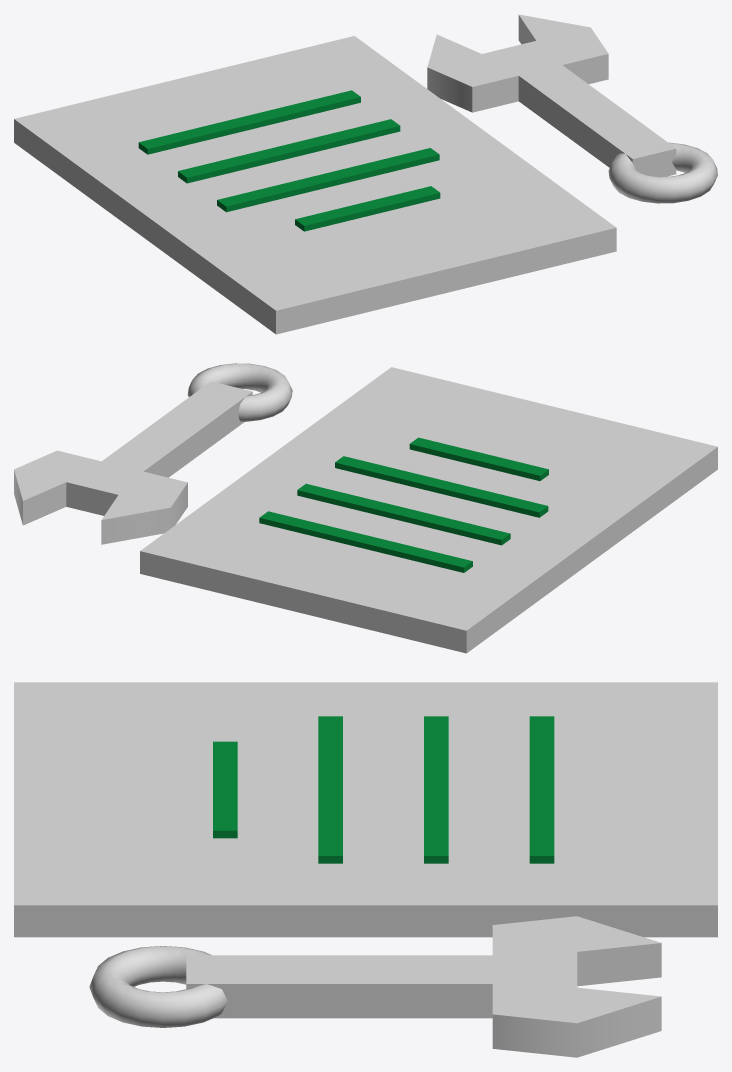
Rendered from IP_vulnerability_scanning.glb.
3 views of the same model, one above another, from view 1: azimuth 30°, elevation 25°; view 2: azimuth 150°, elevation 25°; view 3: azimuth 270°, elevation 25° (orthographic). The views are drawn at different scales.
Parts seen in each view (by area): view 1: instance_white, instance_green; view 2: instance_white, instance_green; view 3: instance_white, instance_green.
Boxes of the visible parts, x1,y1,x2,y2 form: instance_white: (14,14,717,334); instance_green: (138,90,440,231); instance_white: (14,363,717,653); instance_green: (259,437,548,572); instance_white: (14,682,717,1057); instance_green: (213,716,554,863).
Bounding box in the file's own units: 1.15 × 0.062 × 1.
